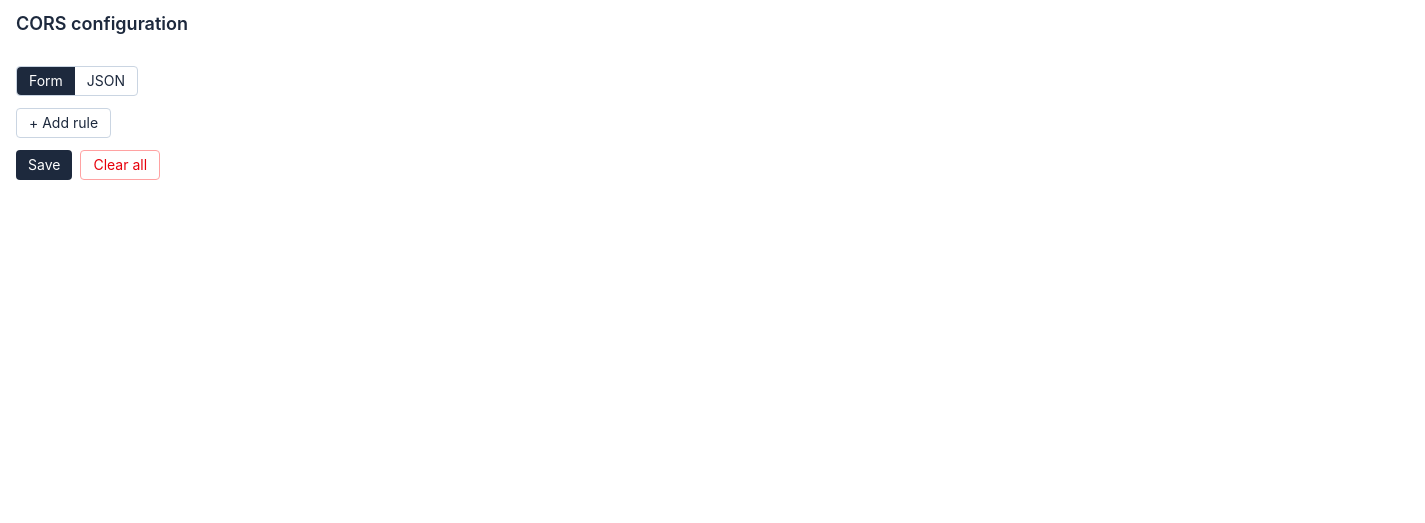
Test: CorsEditor › adds a rule via "+ Add rule"
The width and height of the screenshot is (1425, 523).
Click the button "+ Add rule" at (64, 123), box top-left (16, 108), bottom-right (111, 138)
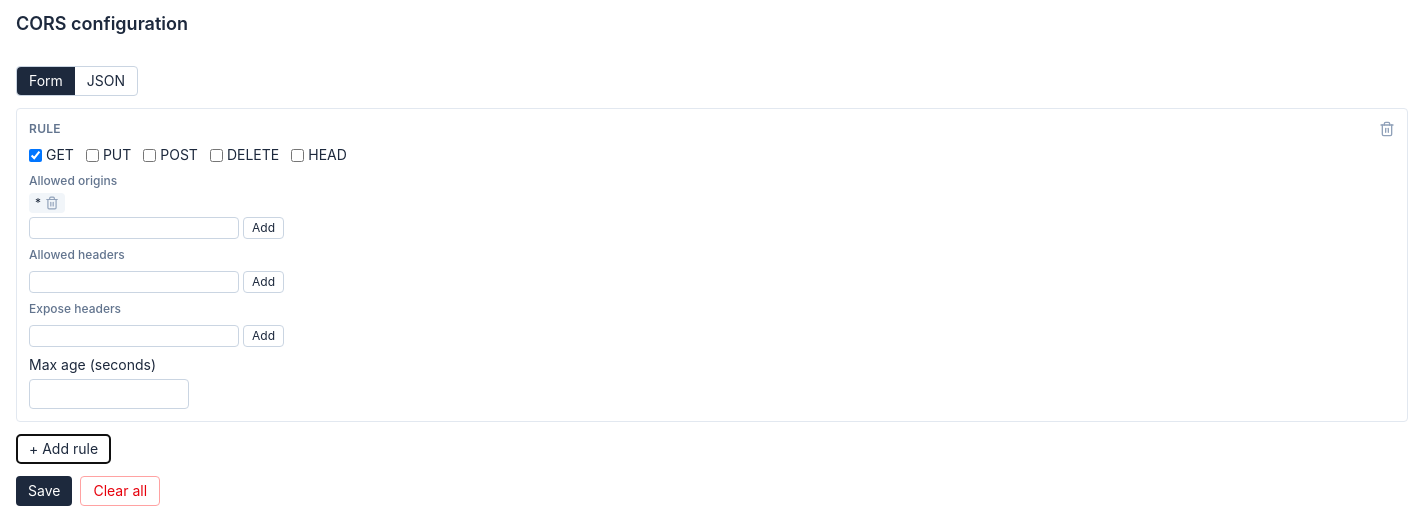
Expected: the button named "Remove rule" is shown, top-left (1379, 121), bottom-right (1395, 137)
